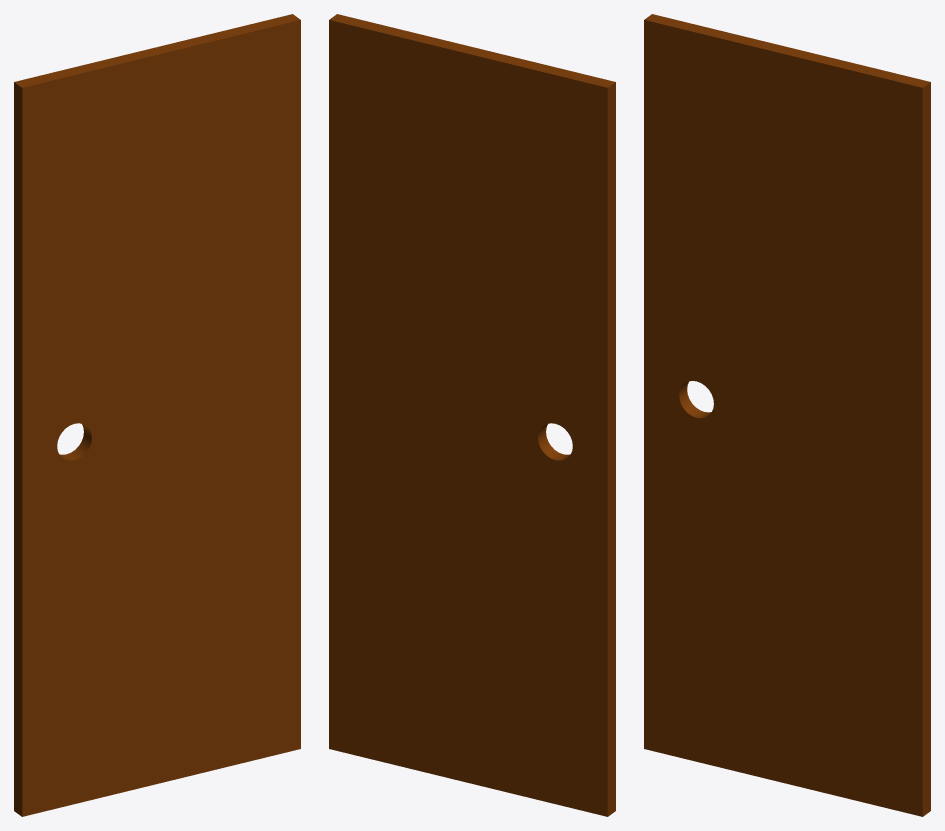
3 views of the same model, side by side, from view 1: azimuth 30°, elevation 25°; view 2: azimuth 150°, elevation 25°; view 3: azimuth 330°, elevation 25° (orthographic).
Parts seen in each view (by area): view 1: node0; view 2: node0; view 3: node0.
Boxes of the visible parts, x1=… form: node0: x1=14, y1=14, x2=300, y2=816; node0: x1=329, y1=14, x2=615, y2=816; node0: x1=644, y1=14, x2=930, y2=816.
Size of the model in its own units: 0.8 by 2 by 0.04.
